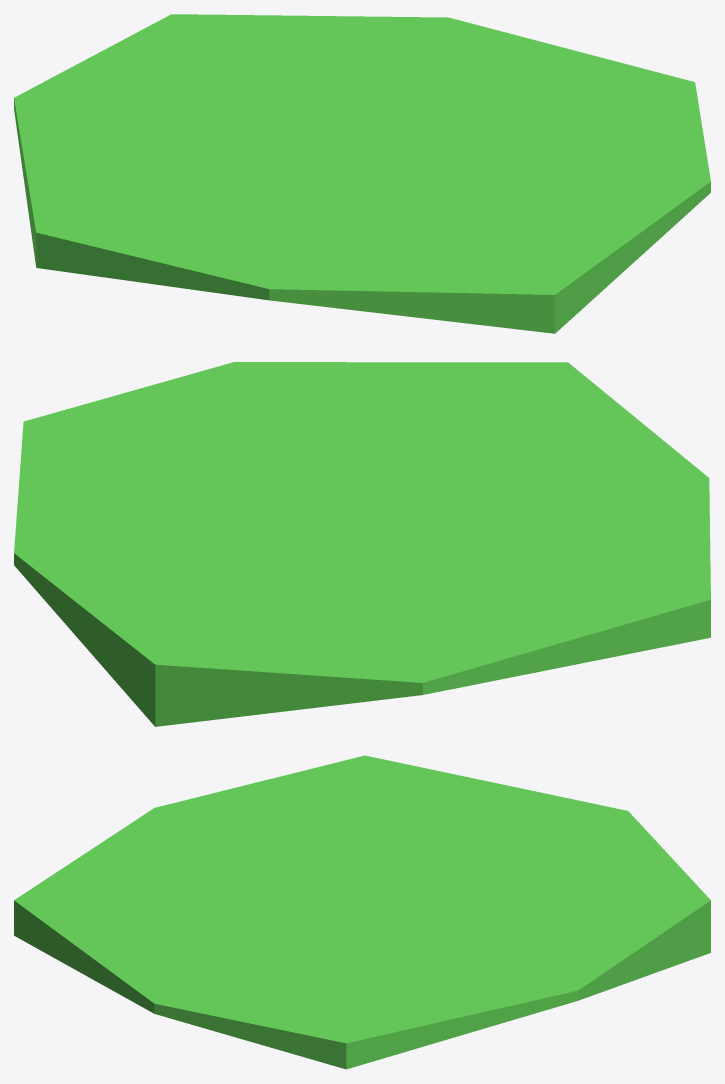
Rendered from island.fbx.
The picture shows the model from 3 angles, top to bottom: view 1: azimuth 30°, elevation 25°; view 2: azimuth 150°, elevation 25°; view 3: azimuth 270°, elevation 25°; orthographic projection. The views are drawn at different scales.
Parts seen in each view (by area): view 1: Island01_Cylinder; view 2: Island01_Cylinder; view 3: Island01_Cylinder.
Boxes of the visible parts, bbox=[...] form: Island01_Cylinder: bbox=[14, 14, 710, 333]; Island01_Cylinder: bbox=[14, 362, 710, 726]; Island01_Cylinder: bbox=[14, 755, 710, 1069].
Size of the model in its own units: 88.71 by 7.61 by 90.85.
